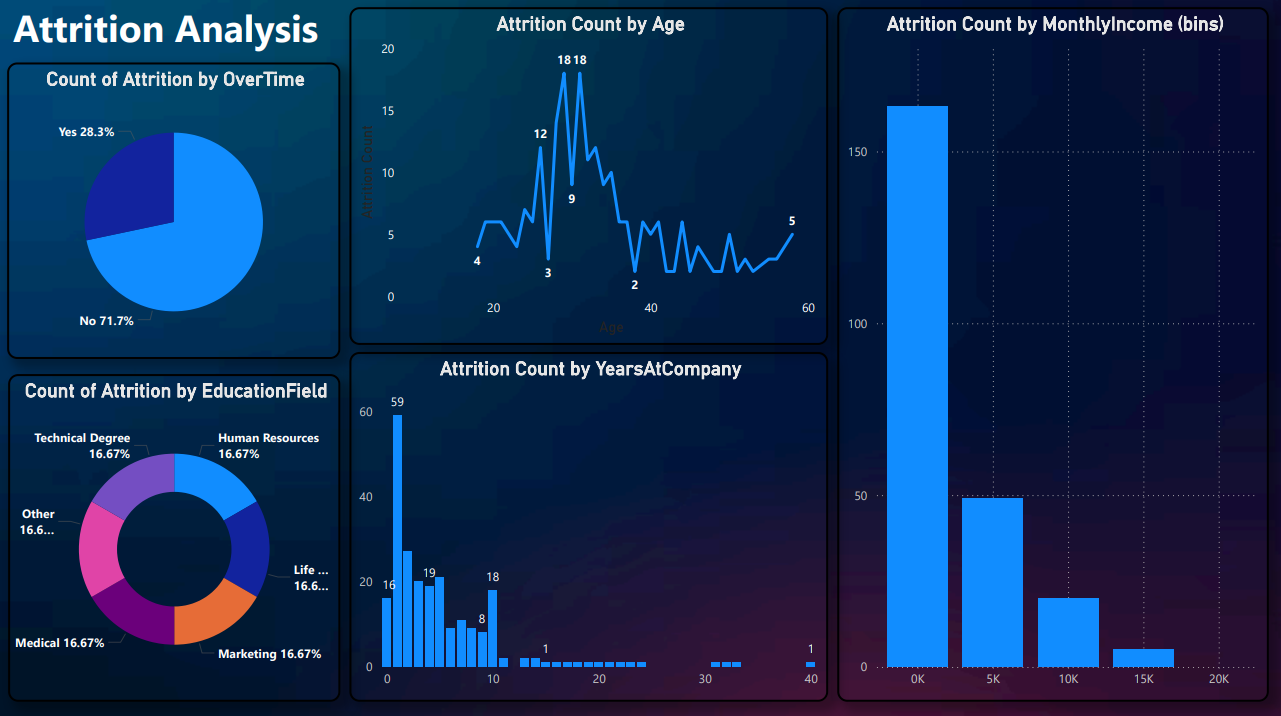

This screenshot's page, from the dashboard's own definition file:
{"tool":"powerbi","page":{"name":"Attirition Analysis","canvas":[1280,720],"ordinal":2},"visuals":[{"type":"lineChart","fields":{"Category":["HR-Employee-Attrition.Age"],"Y":["Attrition Lookup.Attrition Count"]},"box":[350.9,9.8,477.3,336.2],"z":0},{"type":"clusteredColumnChart","fields":{"Y":["Attrition Lookup.Attrition Count"],"Category":["HR-Employee-Attrition.MonthlyIncome (bins)"]},"box":[836.8,9.8,430.7,690.8],"z":1000},{"type":"donutChart","fields":{"Y":["CountNonNull(Attrition Lookup.Attrition)"],"Category":["HR-Employee-Attrition.EducationField"]},"box":[11,375.5,331.3,325.2],"z":2000},{"type":"pieChart","fields":{"Y":["CountNonNull(HR-Employee-Attrition.Attrition)"],"Category":["HR-Employee-Attrition.OverTime"]},"box":[9.8,65,332.5,294.5],"z":3000},{"type":"clusteredColumnChart","fields":{"Category":["HR-Employee-Attrition.YearsAtCompany"],"Y":["Attrition Lookup.Attrition Count"]},"box":[350.9,353.4,477.3,347.2],"z":4000},{"type":"textbox","box":[11,0,406.1,76.1],"z":5000}]}

Visuals, with their boxes in screenshot pixels (x1, y1, x2, y2), scaled from the page's 1280x720 canvas onto the 1281x716 screenshot:
lineChart - HR-Employee-Attrition.Age x Attrition Lookup.Attrition Count: (x1=351, y1=10, x2=829, y2=344)
clusteredColumnChart - Attrition Lookup.Attrition Count x HR-Employee-Attrition.MonthlyIncome (bins): (x1=837, y1=10, x2=1268, y2=697)
donutChart - CountNonNull(Attrition Lookup.Attrition) x HR-Employee-Attrition.EducationField: (x1=11, y1=373, x2=343, y2=697)
pieChart - CountNonNull(HR-Employee-Attrition.Attrition) x HR-Employee-Attrition.OverTime: (x1=10, y1=65, x2=343, y2=358)
clusteredColumnChart - HR-Employee-Attrition.YearsAtCompany x Attrition Lookup.Attrition Count: (x1=351, y1=351, x2=829, y2=697)
textbox: (x1=11, y1=0, x2=417, y2=76)
